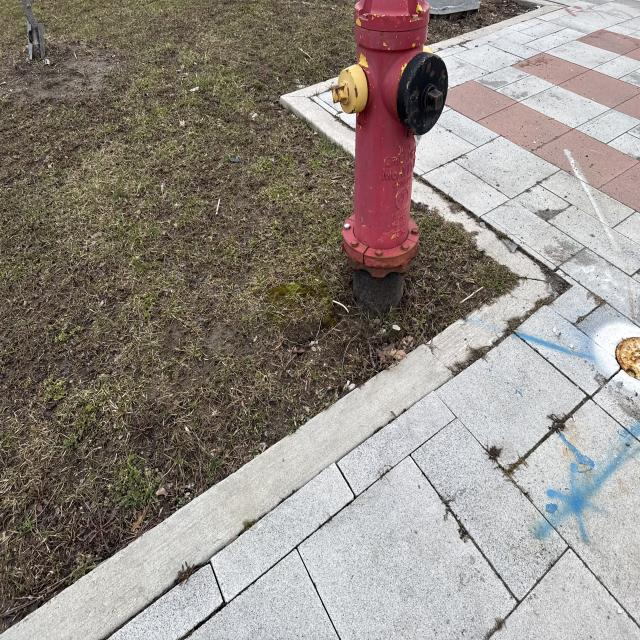Fire hydrant: (331, 0, 449, 278)
